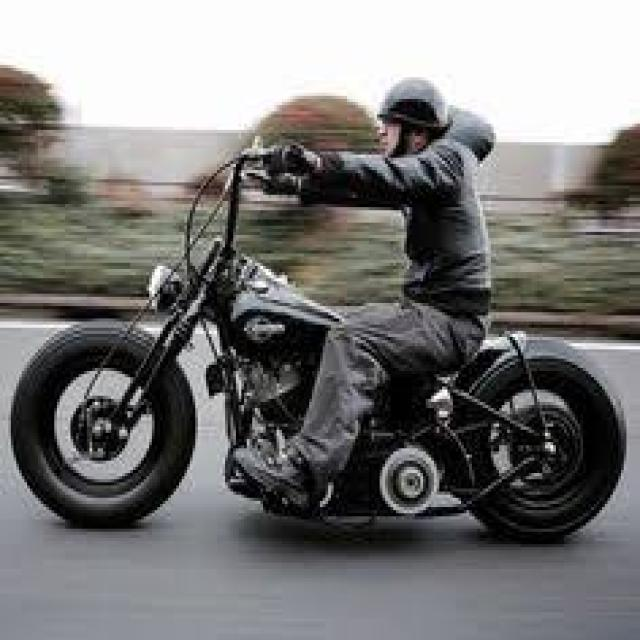MOTORCYCLE: (8, 230, 628, 538)
